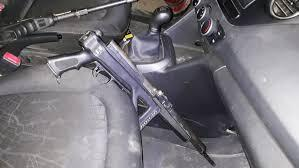larga: (46, 30, 216, 168)
